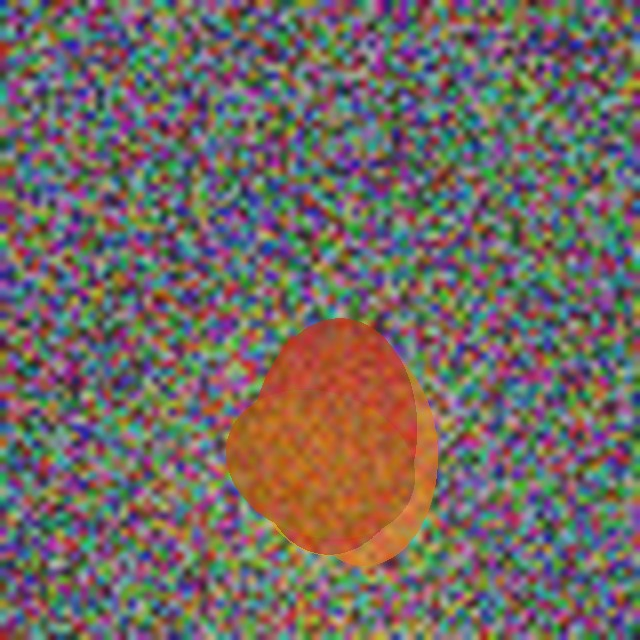fire: (242, 414, 428, 522)
